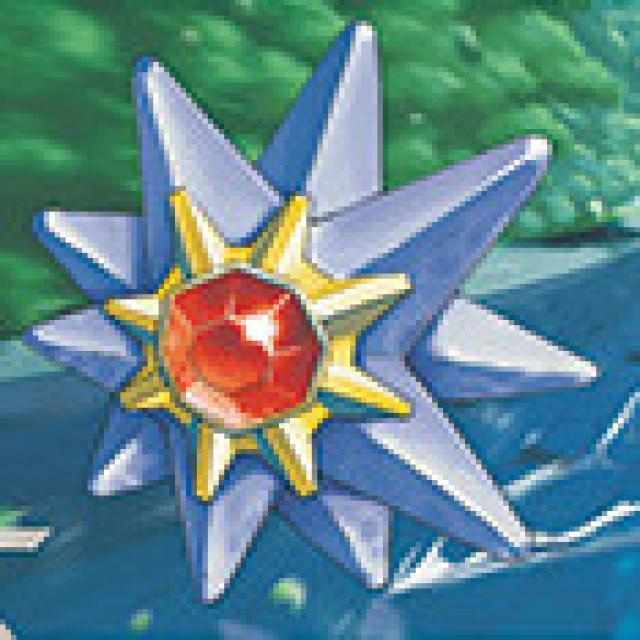Starmie: (51, 108, 556, 561)
